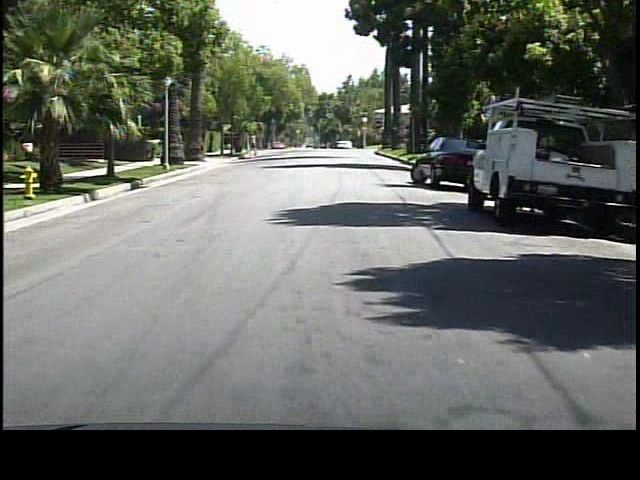person: (249, 129, 262, 158)
